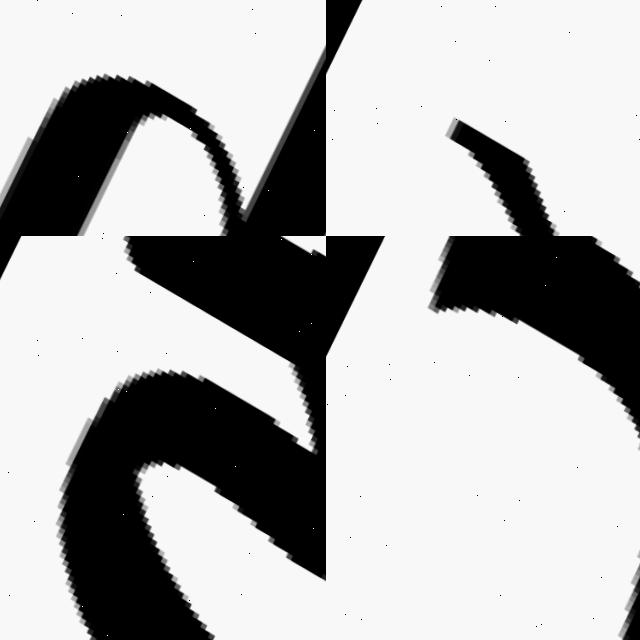5: (0, 236, 326, 640)
H: (0, 20, 326, 236)
K: (326, 0, 640, 236)
R: (326, 236, 640, 640)
